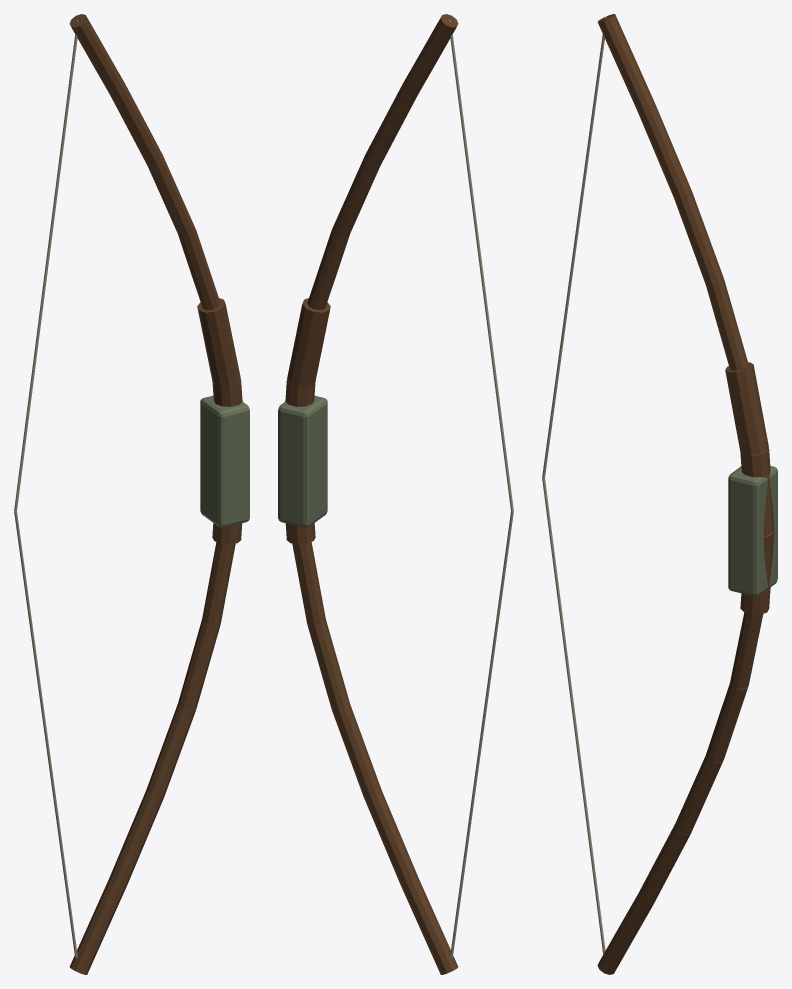
The model's file is Bow.glb.
3 views of the same model, side by side, from view 1: azimuth 30°, elevation 25°; view 2: azimuth 150°, elevation 25°; view 3: azimuth 330°, elevation 25° (orthographic).
Parts seen in each view (by area): view 1: Bow; view 2: Bow; view 3: Bow.
Part boxes in pixels (bbox=[...]): Bow: bbox=[14, 14, 249, 974]; Bow: bbox=[278, 14, 513, 974]; Bow: bbox=[542, 14, 777, 974].
Size of the model in its own units: 0.3297 by 1.31 by 0.055.
